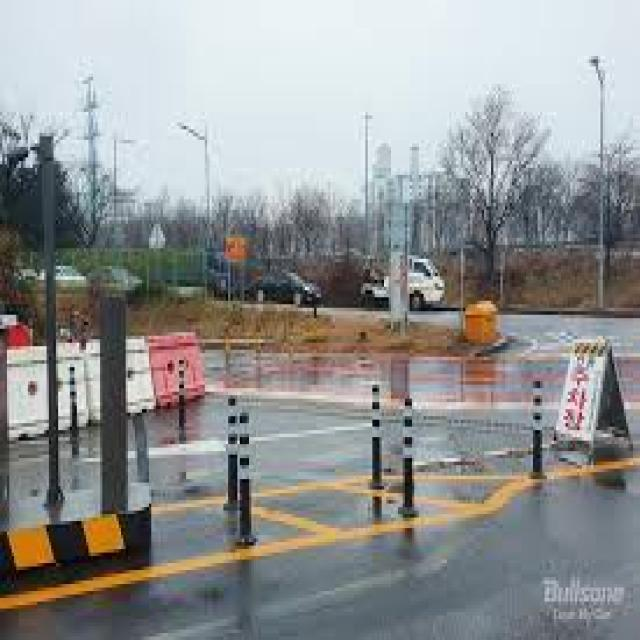bollard: (398, 389, 421, 518), (366, 378, 388, 491), (236, 410, 254, 546), (527, 372, 546, 482), (225, 391, 239, 507), (67, 362, 85, 440), (175, 352, 192, 432)
